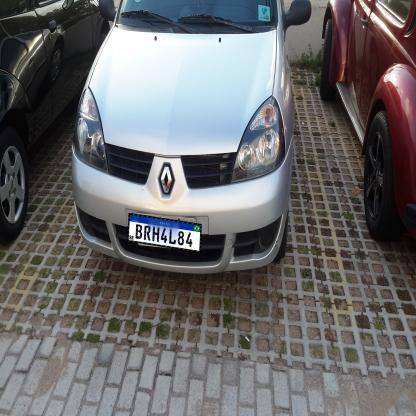PlacaM: (127, 213, 202, 253)
